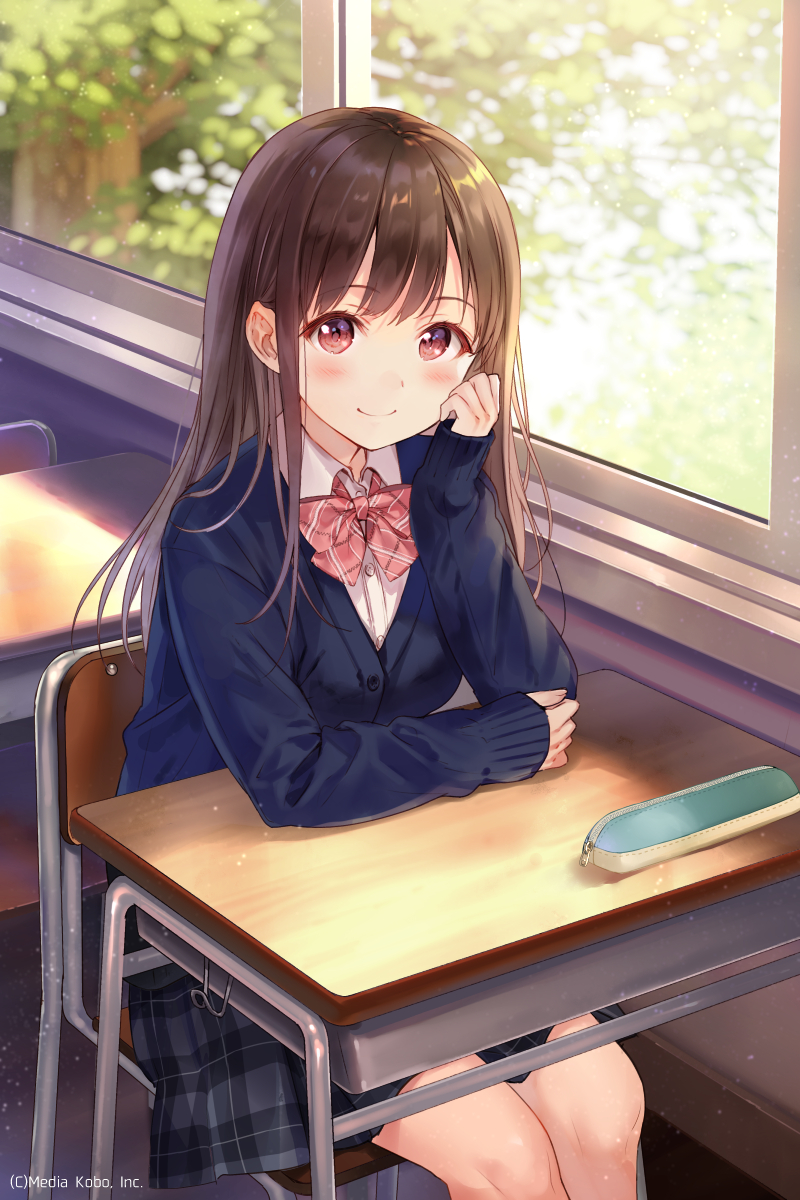纸片人正脸: (192, 90, 538, 464)
